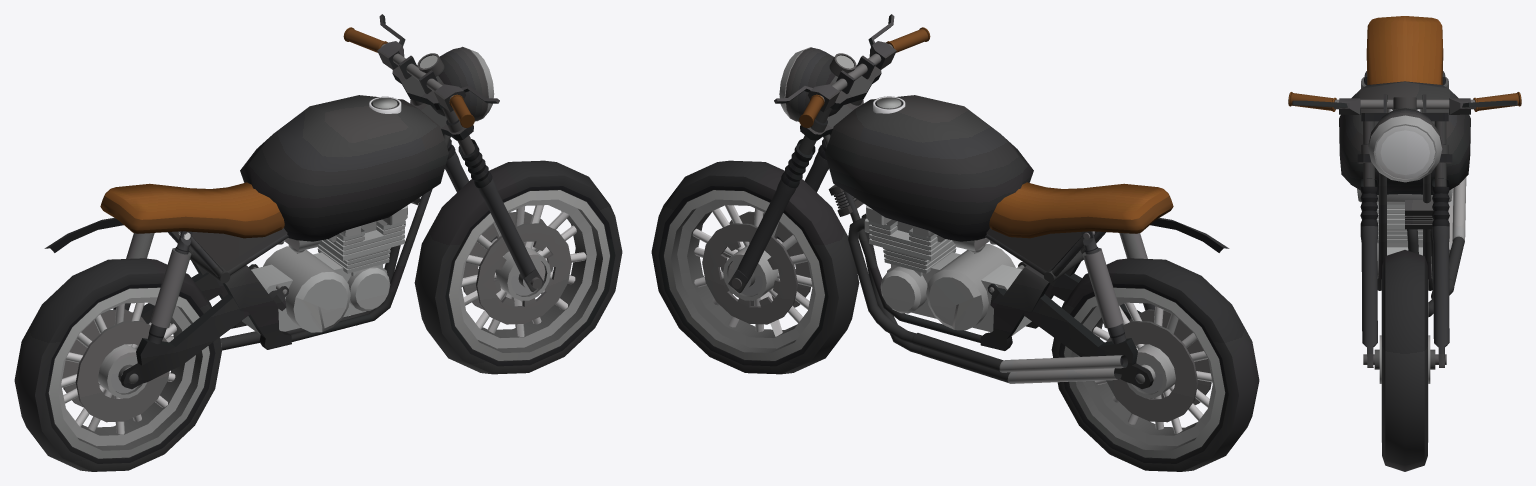
Rendered from Bike.fbx.
3 views of the same model, side by side, from view 1: azimuth 30°, elevation 25°; view 2: azimuth 150°, elevation 25°; view 3: azimuth 270°, elevation 25° (orthographic). The views are drawn at different scales.
Parts seen in each view (by area): view 1: Base, Wheel_F, Wheel_B, Handlebar; view 2: Base, Wheel_F, Wheel_B, Handlebar; view 3: Base, Handlebar, Wheel_F.
Part boxes in pixels (x1,y1,x2,y2): Base: [44, 95, 450, 389]; Wheel_F: [414, 160, 622, 374]; Wheel_B: [14, 258, 222, 471]; Handlebar: [343, 14, 544, 292]; Base: [823, 95, 1229, 389]; Wheel_F: [651, 160, 859, 374]; Wheel_B: [1051, 258, 1259, 471]; Handlebar: [728, 14, 930, 293]; Base: [1339, 16, 1470, 317]; Handlebar: [1288, 92, 1521, 367]; Wheel_F: [1363, 250, 1446, 471].
Bounding box in the file's own units: 206 × 111 × 71.61.
Materials: 1 (1 with a texture image).
